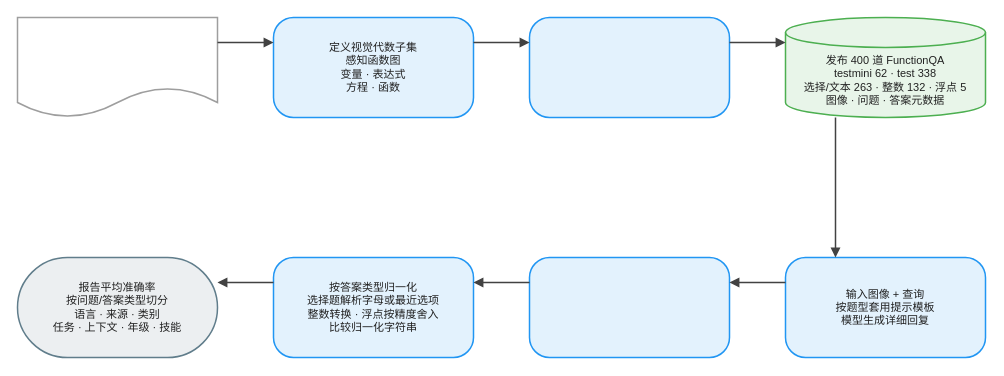
The diagram is 1004 pixels wide and 376 high, and some of its shapes have lost their labels. The centre of each missing label's shape, as x and y in pixels:
STEM 研究生人工标注 三人复核全部新建数据集 736 道新题整体一致率 99.2% 6 个分歧经共识解决: [629,67]
抽取简短答案 选择/整数/浮点走精确快路径 否则使用少样本 GPT-4 抽取器 论文核验：200 例准确率 >99.5%: [629,307]
证据快照 论文 2310.02255v3 仓库 53d52587 · 数据 2b6ad694 更细题目来源：未披露: [117,67]
